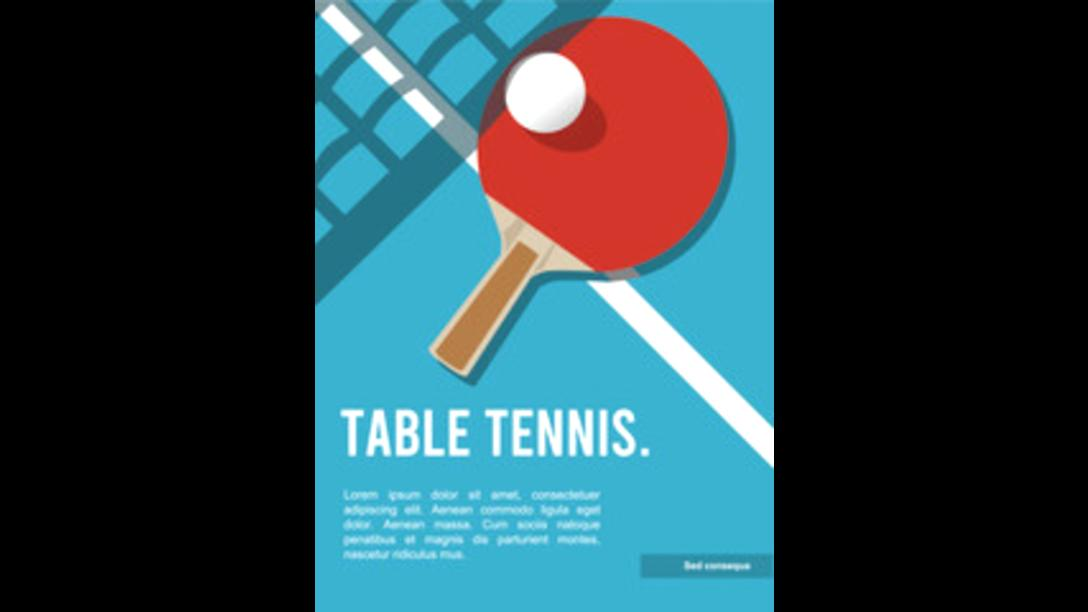Table-Tennis-Ball: (505, 52, 583, 132)
